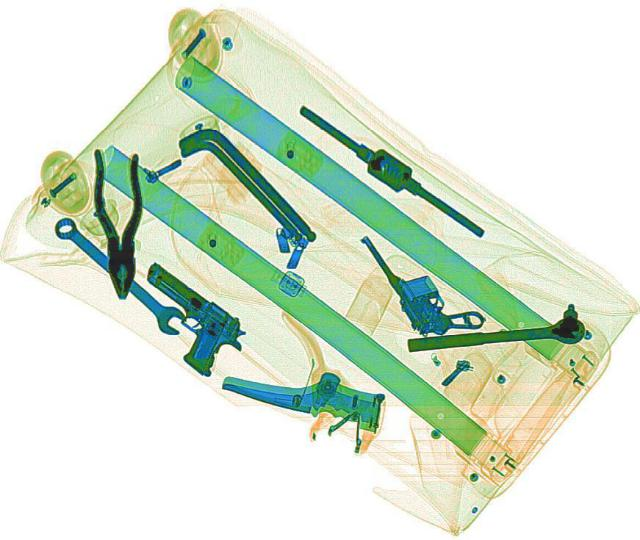Gun: (102, 259, 260, 377), (358, 211, 488, 345)
Pliers: (90, 145, 146, 297)
Wrench: (41, 210, 193, 336)
